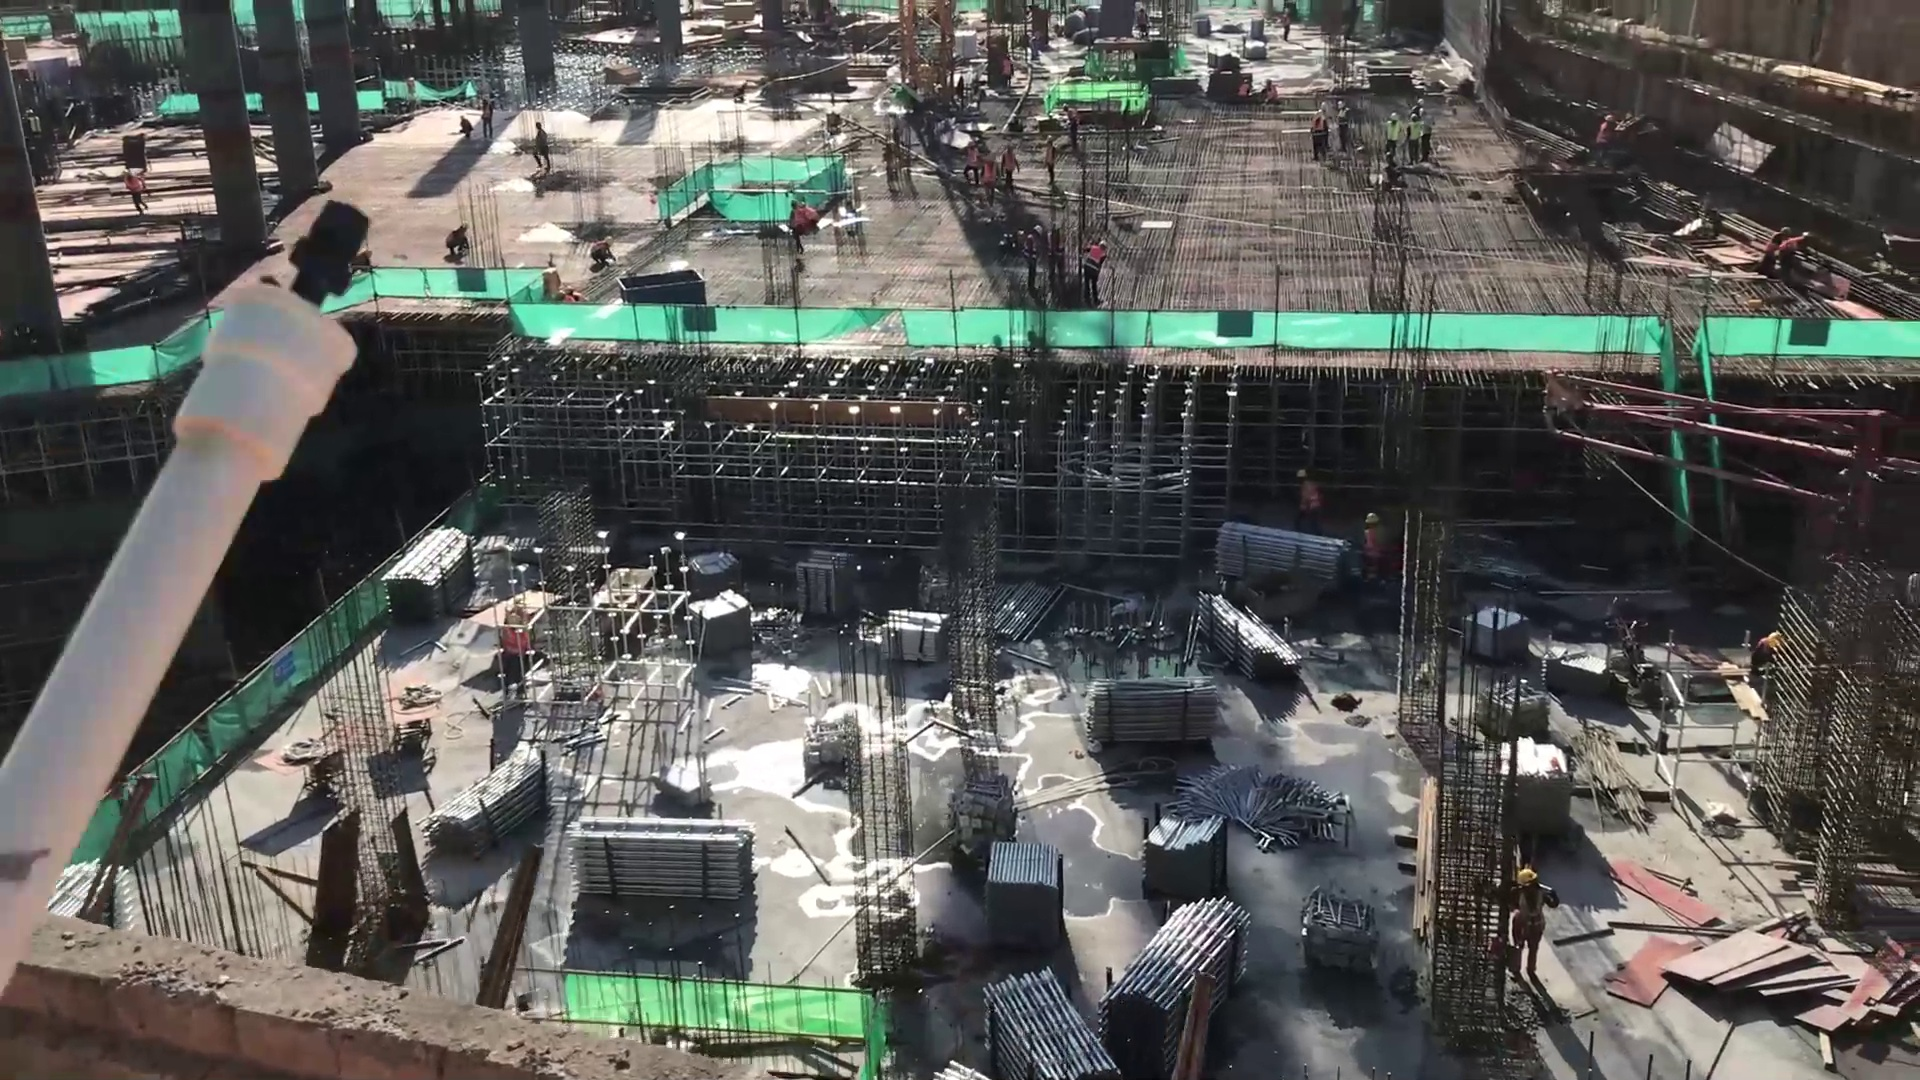board: (1666, 917, 1851, 1001)
helmet: (1516, 869, 1538, 884), (1365, 513, 1377, 522), (1296, 469, 1307, 477)
person: (1503, 866, 1558, 975), (492, 605, 541, 693), (1358, 505, 1396, 591), (1752, 623, 1784, 695), (1288, 466, 1321, 532), (116, 167, 152, 221), (1084, 236, 1108, 307), (527, 120, 555, 176), (1024, 221, 1043, 298), (1783, 229, 1810, 278), (1000, 141, 1025, 193), (1763, 221, 1783, 281), (1380, 108, 1398, 172), (1403, 110, 1422, 173), (1595, 111, 1618, 162), (1060, 101, 1082, 151), (784, 197, 804, 253), (1332, 100, 1353, 152), (477, 99, 498, 149), (586, 235, 616, 268), (1308, 107, 1327, 160), (981, 151, 998, 208), (445, 221, 472, 256), (959, 137, 977, 188), (1042, 135, 1060, 186), (1420, 115, 1438, 169), (799, 201, 821, 236), (1000, 52, 1015, 89), (454, 114, 473, 142), (1412, 97, 1426, 119)
scaffold: (1117, 898, 1249, 1049), (572, 815, 757, 904), (979, 964, 1110, 1078), (430, 744, 543, 842), (1082, 675, 1218, 749), (1212, 520, 1344, 587), (1202, 588, 1297, 678), (985, 834, 1061, 927), (391, 523, 465, 619), (1508, 739, 1577, 838), (1143, 818, 1228, 895), (689, 593, 750, 657), (1540, 644, 1613, 698), (988, 581, 1055, 640), (796, 550, 855, 617), (886, 607, 945, 661)
